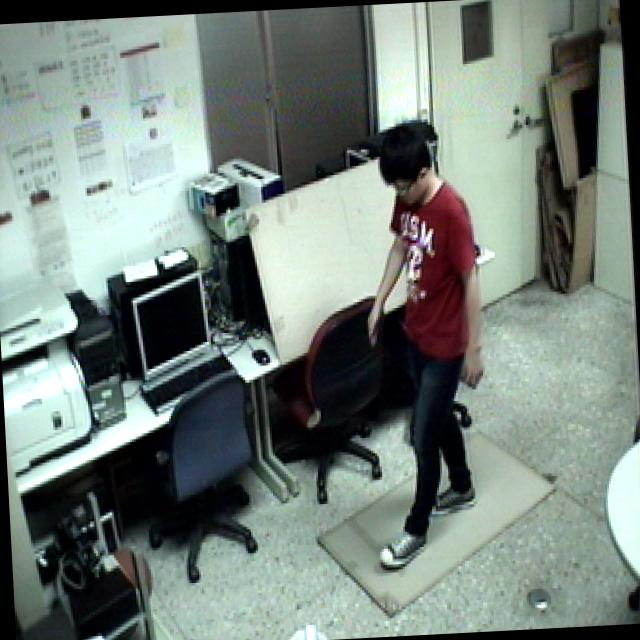stand: (344, 112, 503, 578)
